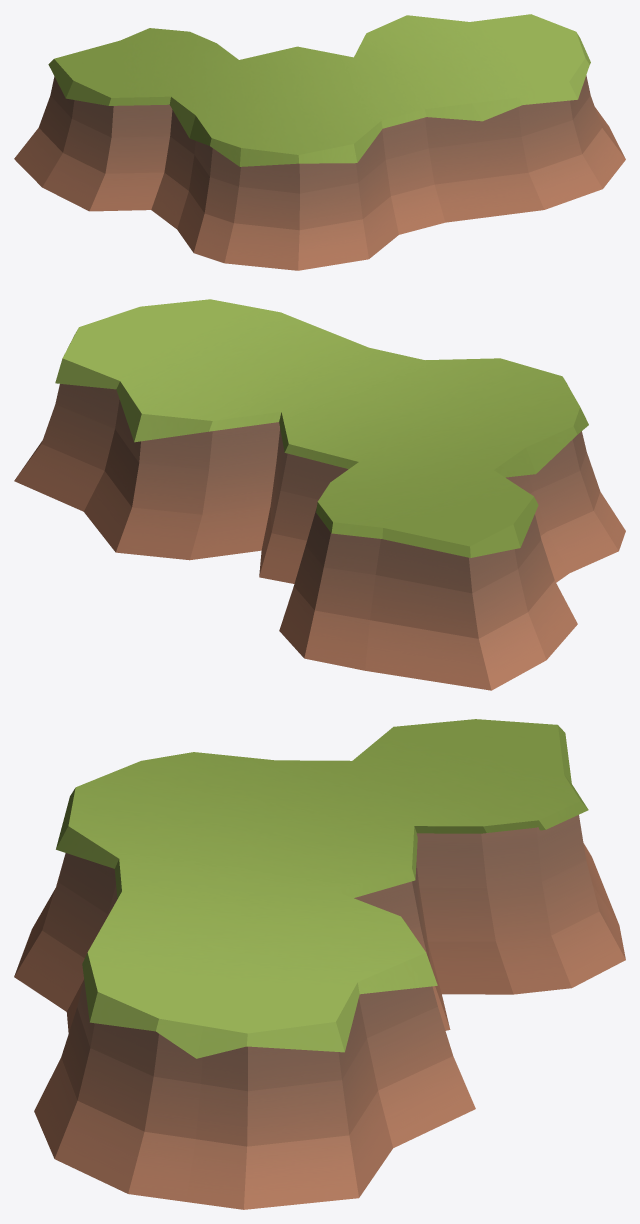
Rendered from cliff2.fbx.
3 renders of one model, top to bottom at view 1: azimuth 30°, elevation 25°; view 2: azimuth 150°, elevation 25°; view 3: azimuth 270°, elevation 25°, orthographic. The views are drawn at different scales.
Visible parts, largest first — view 1: cliff2; view 2: cliff2; view 3: cliff2.
Boxes of the visible parts, x1=… form: cliff2: x1=14, y1=14, x2=625, y2=270; cliff2: x1=14, y1=299, x2=625, y2=690; cliff2: x1=14, y1=719, x2=625, y2=1209.
Bounding box in the file's own units: 9.59 × 1.91 × 6.91.
